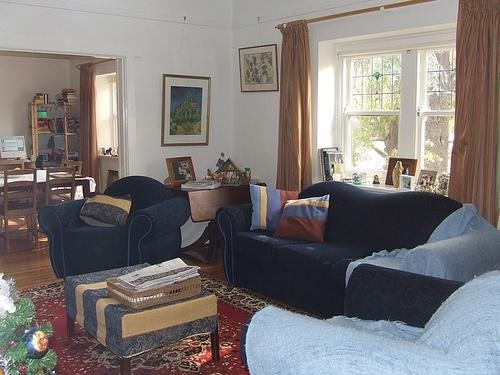chair: (244, 262, 500, 375), (40, 176, 192, 282), (3, 168, 41, 251), (47, 167, 77, 208), (59, 159, 85, 175)
sofa: (216, 180, 500, 330)
